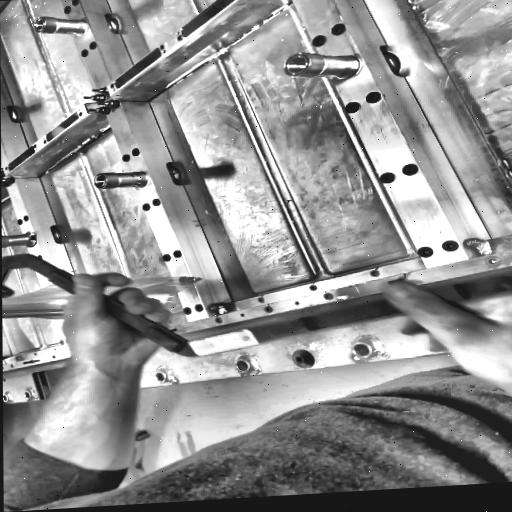busbar: (2, 252, 512, 359)
nut: (81, 83, 121, 116)
